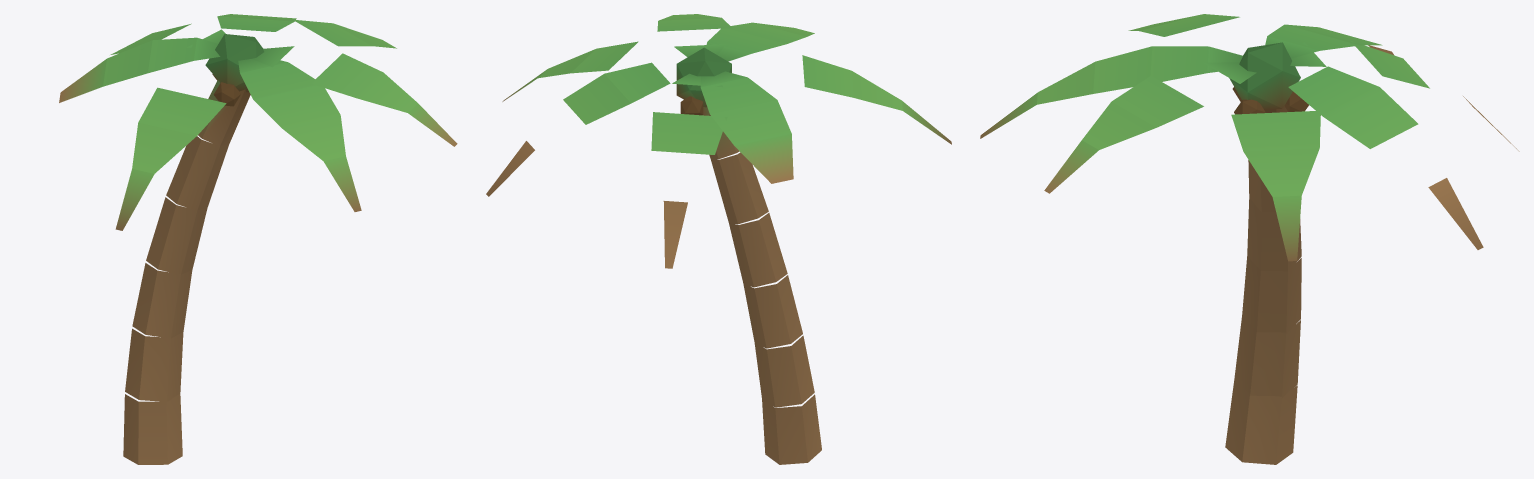
The model's file is palm_2.glb.
3 renders of one model, left to right at view 1: azimuth 30°, elevation 25°; view 2: azimuth 150°, elevation 25°; view 3: azimuth 270°, elevation 25°, orthographic. The views are drawn at different scales.
Visible parts, largest first — view 1: Palm.002; view 2: Palm.002; view 3: Palm.002.
Part boxes in pixels (box(x1,y1,x2,y2)): Palm.002: box(59, 14, 457, 464); Palm.002: box(486, 14, 951, 464); Palm.002: box(980, 14, 1519, 464).
Size of the model in its own units: 4.55 by 4.42 by 4.74.
